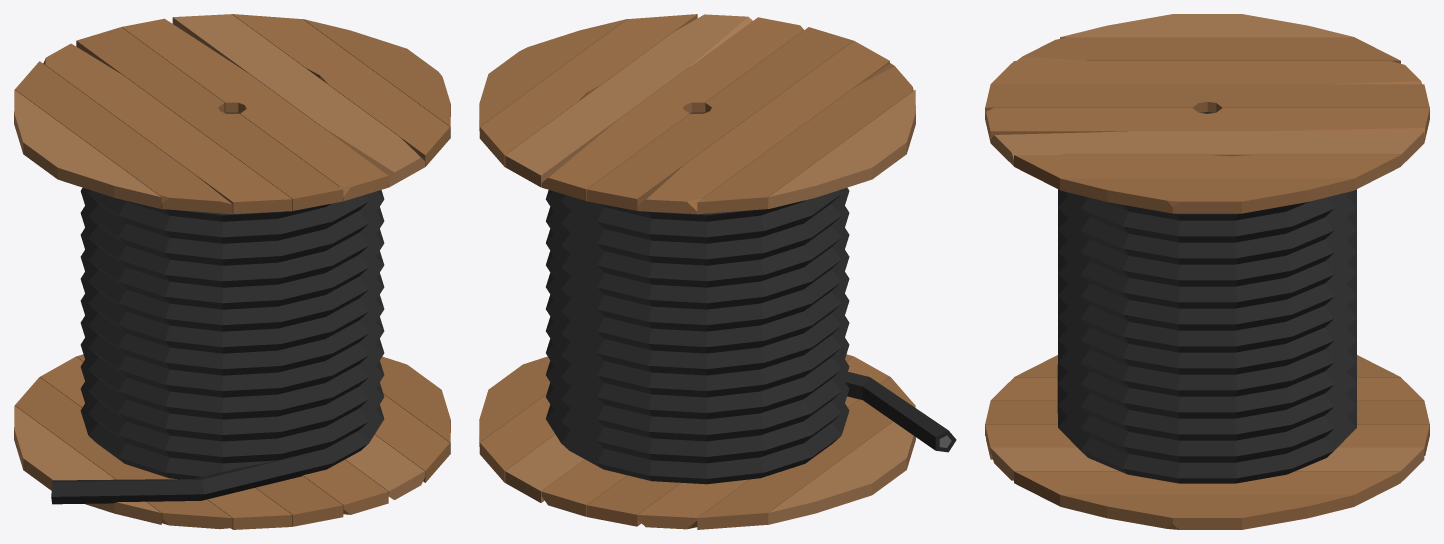
File: CableReel_02.fbx
3 renders of one model, left to right at view 1: azimuth 30°, elevation 25°; view 2: azimuth 150°, elevation 25°; view 3: azimuth 270°, elevation 25°, orthographic.
Visible parts, largest first — view 1: CableReel_02; view 2: CableReel_02; view 3: CableReel_02.
Boxes of the visible parts, x1,y1,x2,y2 form: CableReel_02: [14, 14, 450, 529]; CableReel_02: [479, 14, 956, 529]; CableReel_02: [985, 14, 1429, 529].
Size of the model in its own units: 169 by 128 by 158.
